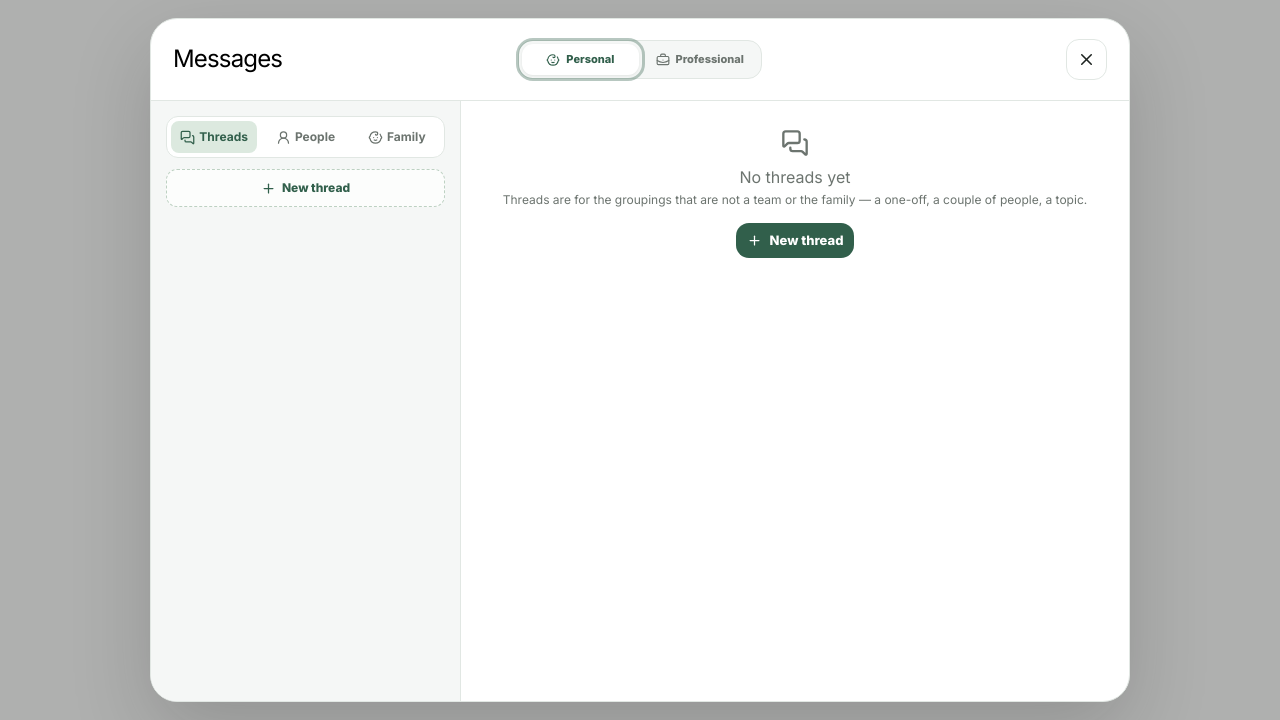
Test: MessageCenter › offers Family in Personal and Teams in Professional, never both
This screenshot has width=1280, height=720.
Expected: the button "Family" is shown, 354,121 -> 440,153
Expected: the button "Teams" is not shown
Click the radio button labelled "Professional" at [700, 60], box 642,44 -> 758,75
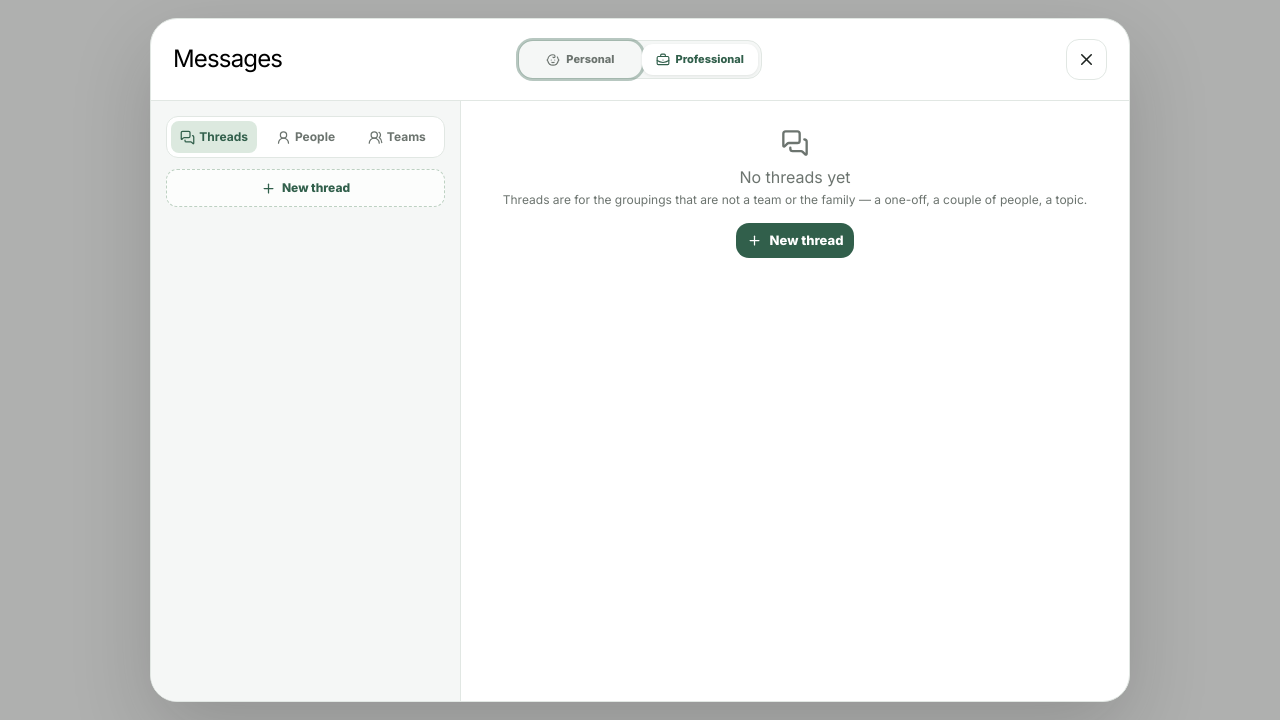
Now the button "Teams" is shown, box 354,121 -> 440,153
